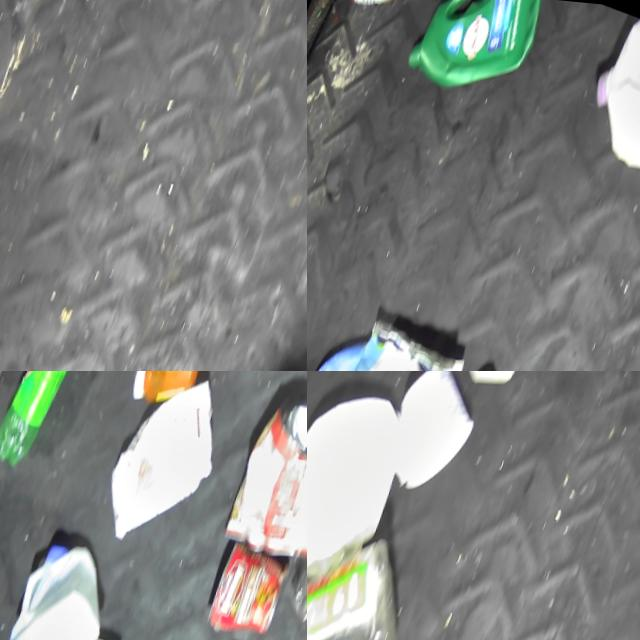can: (213, 529, 305, 638), (338, 0, 422, 17)
milk_jug: (98, 371, 248, 556), (8, 523, 139, 640), (572, 0, 640, 182)
non_white_jug: (399, 0, 551, 108)
